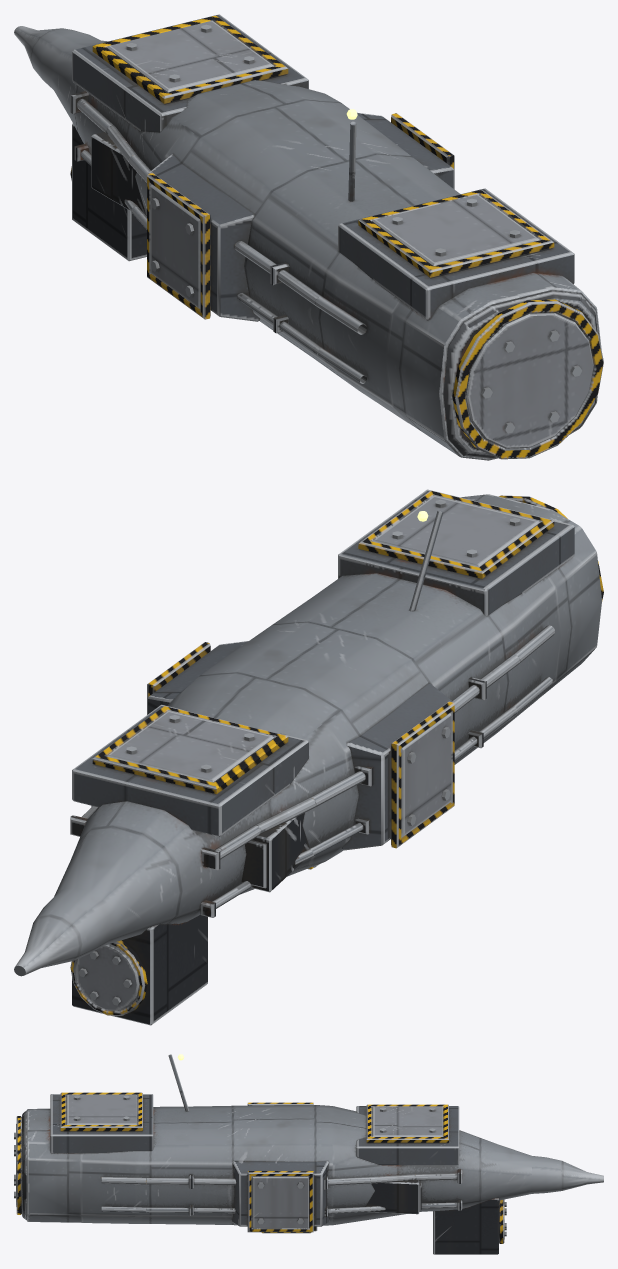
The model's file is casco_caza_t1.fbx.
3 renders of one model, top to bottom at view 1: azimuth 30°, elevation 25°; view 2: azimuth 150°, elevation 25°; view 3: azimuth 270°, elevation 25°, orthographic. The views are drawn at different scales.
Parts seen in each view (by area): view 1: casco_caza_t1; view 2: casco_caza_t1; view 3: casco_caza_t1.
Boxes of the visible parts, left/top/right/bottom form: casco_caza_t1: left=14, top=14, right=603, bottom=460; casco_caza_t1: left=14, top=489, right=603, bottom=1025; casco_caza_t1: left=14, top=1054, right=603, bottom=1254.
Size of the model in its own units: 4.18 by 4.81 by 14.31.
